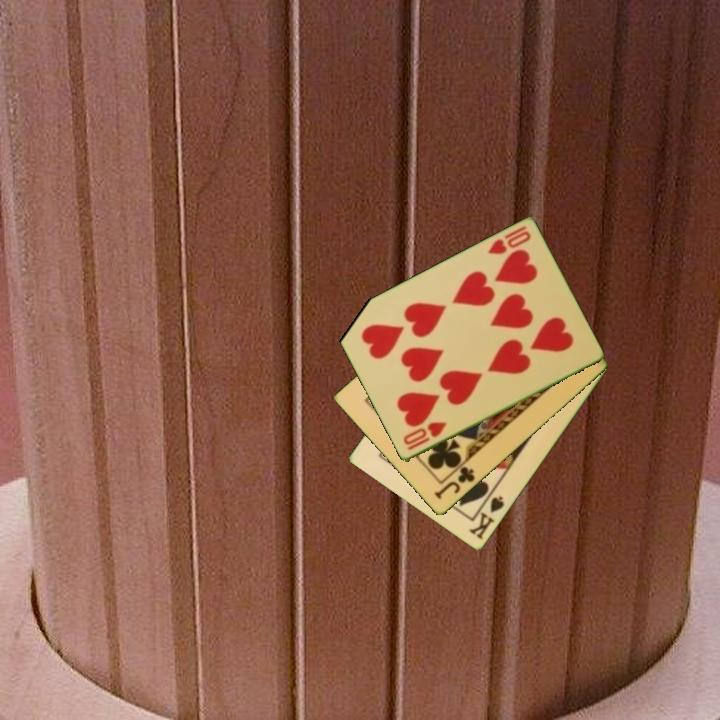10h: (399, 418, 450, 454), (484, 223, 534, 258)
Jc: (431, 463, 478, 503)
Ks: (465, 488, 507, 543)
